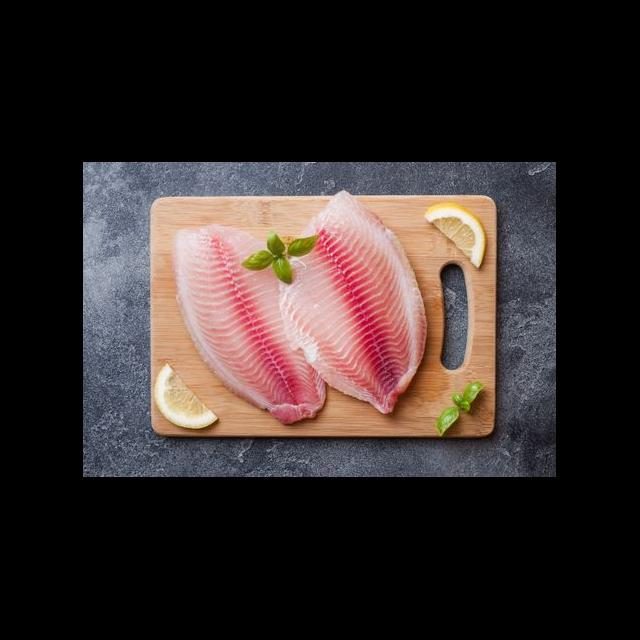fish: (281, 189, 432, 426)
